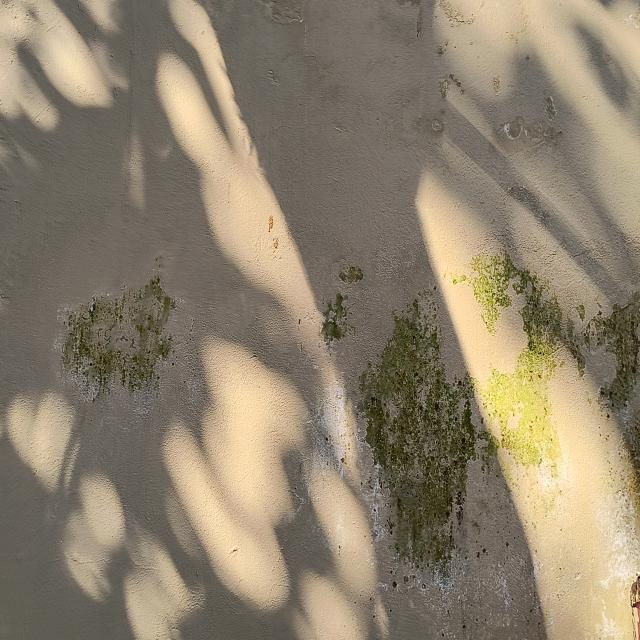pollution -moisture induced blackening: (279, 250, 640, 638), (48, 248, 211, 430)
